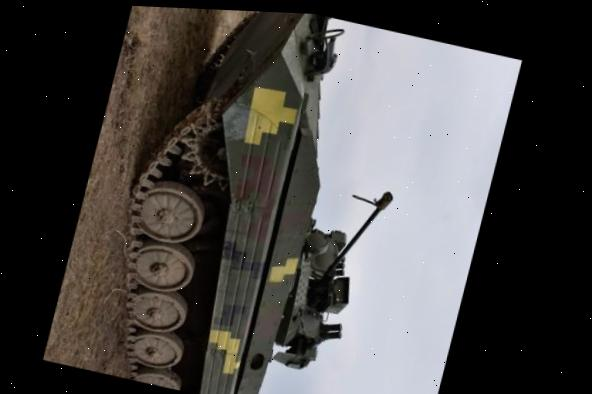tank: (80, 5, 433, 394)
